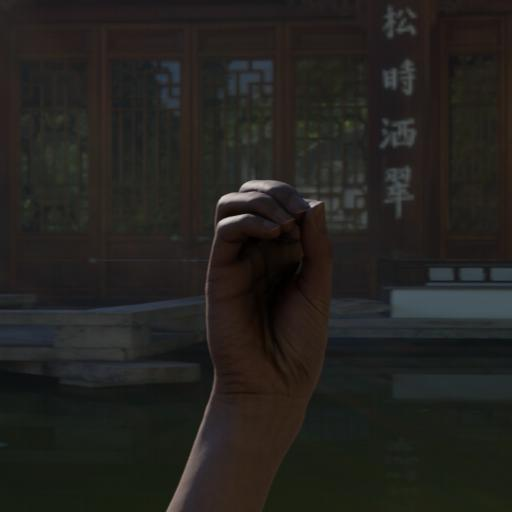O: (184, 167, 354, 482)
